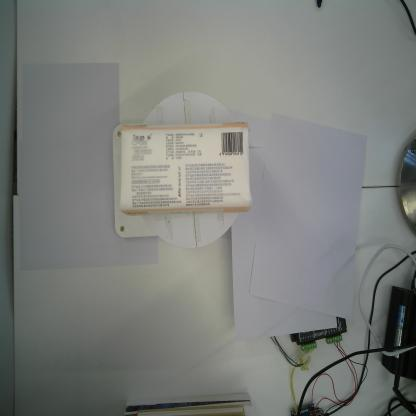Tissue: (119, 121, 250, 217)
